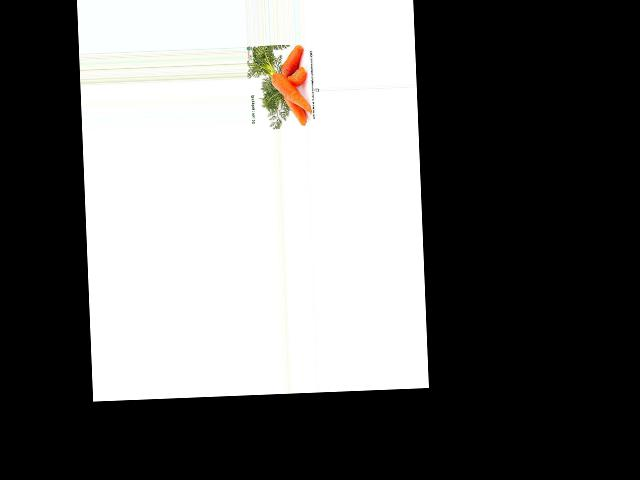carrot: (277, 45, 304, 77)
